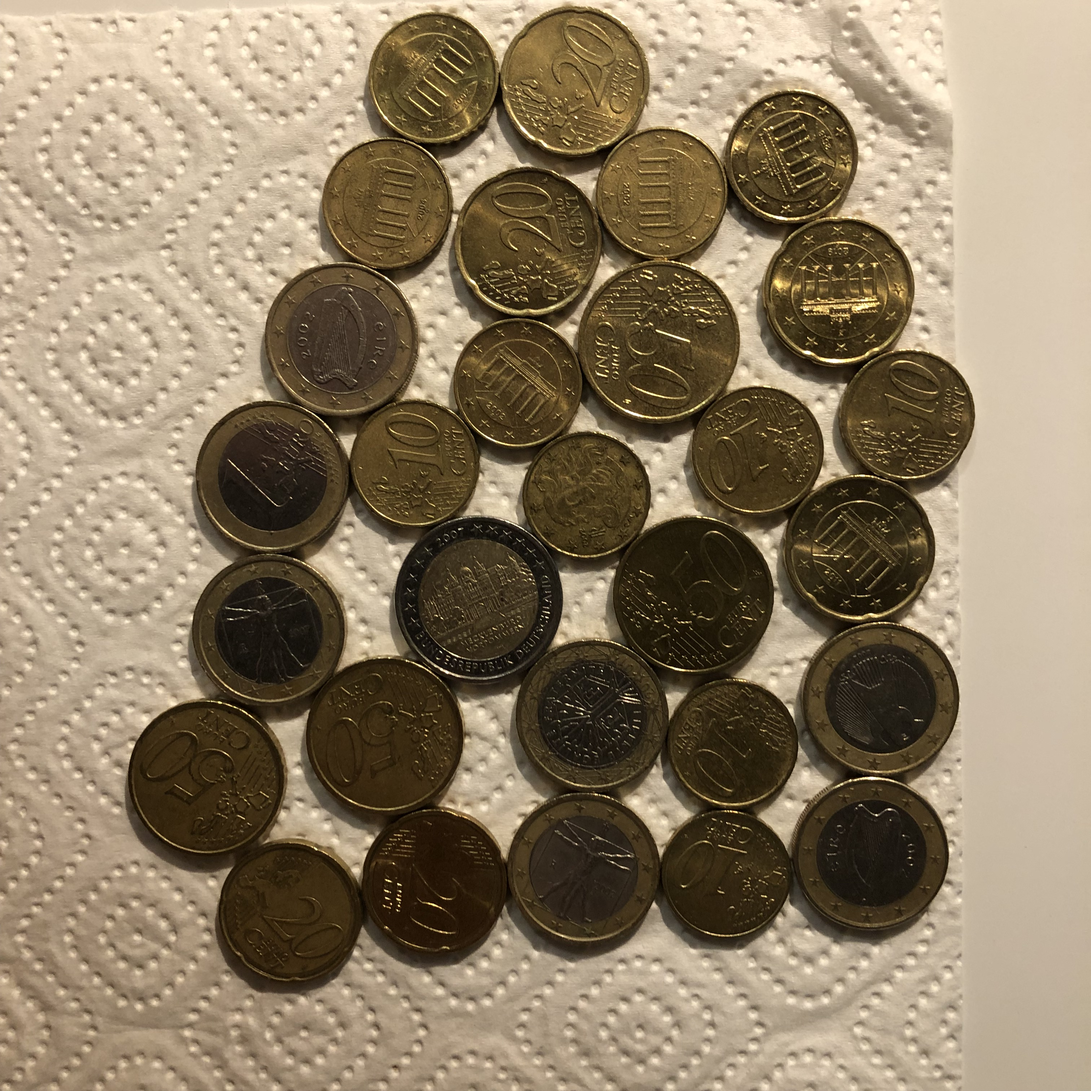1 euro: (791, 774, 952, 932), (260, 260, 421, 418), (187, 397, 349, 554), (800, 619, 961, 776), (190, 549, 351, 706), (513, 633, 669, 791), (507, 791, 662, 949)
10 cent: (364, 11, 504, 147), (690, 381, 830, 517), (515, 427, 654, 563), (657, 808, 796, 944), (316, 135, 456, 270), (722, 91, 862, 226), (446, 317, 586, 452), (593, 124, 732, 259), (348, 395, 487, 530), (837, 353, 976, 488), (662, 675, 801, 810)
2 euro: (391, 510, 564, 689)
20 cent: (212, 834, 363, 989), (357, 805, 508, 960), (452, 163, 603, 318), (497, 0, 648, 155), (762, 214, 913, 369), (784, 470, 934, 625)
50 cent: (124, 695, 293, 860), (609, 513, 774, 678), (577, 263, 742, 428), (303, 655, 467, 820)
